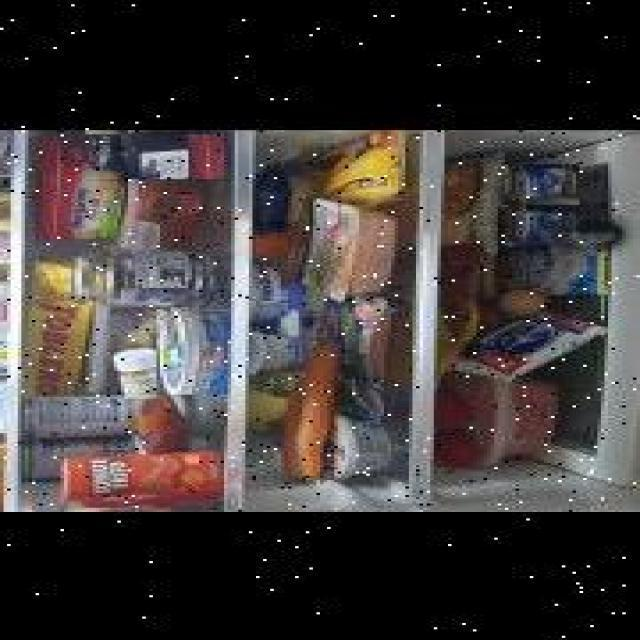avocado: (0, 128, 39, 190), (0, 140, 39, 197)
butter: (35, 132, 121, 241)
carrot: (298, 337, 338, 480)
cheese: (310, 128, 406, 205), (156, 306, 228, 392)
egg: (505, 286, 551, 316)
marmelade: (85, 128, 224, 177)
tomato: (434, 429, 480, 467)
tomato_sauce: (56, 448, 228, 510)
yogurt: (502, 162, 580, 203), (0, 380, 46, 431), (0, 328, 46, 372)
